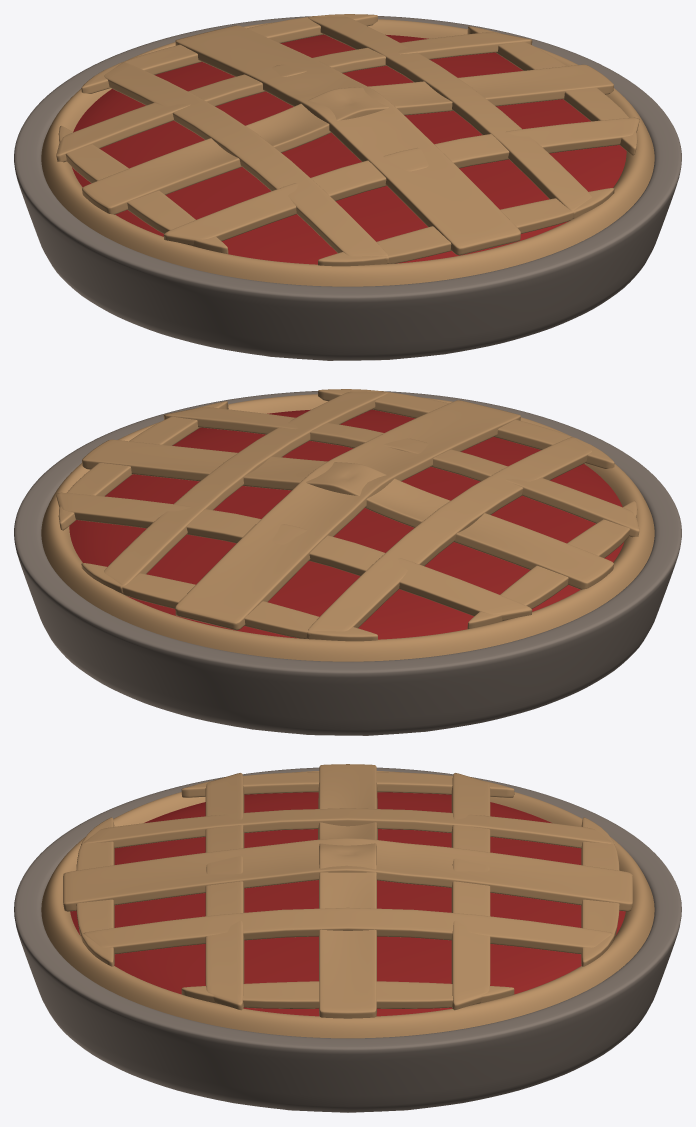
The model's file is Apple_Pie.fbx.
3 views of the same model, one above another, from view 1: azimuth 30°, elevation 25°; view 2: azimuth 150°, elevation 25°; view 3: azimuth 270°, elevation 25° (orthographic).
Parts seen in each view (by area): view 1: Apple Pie; view 2: Apple Pie; view 3: Apple Pie.
Boxes of the visible parts, x1,y1,x2,y2 form: Apple Pie: [14, 14, 681, 360]; Apple Pie: [14, 389, 681, 735]; Apple Pie: [14, 764, 681, 1112].
Size of the model in its own units: 190 by 43.14 by 190.
